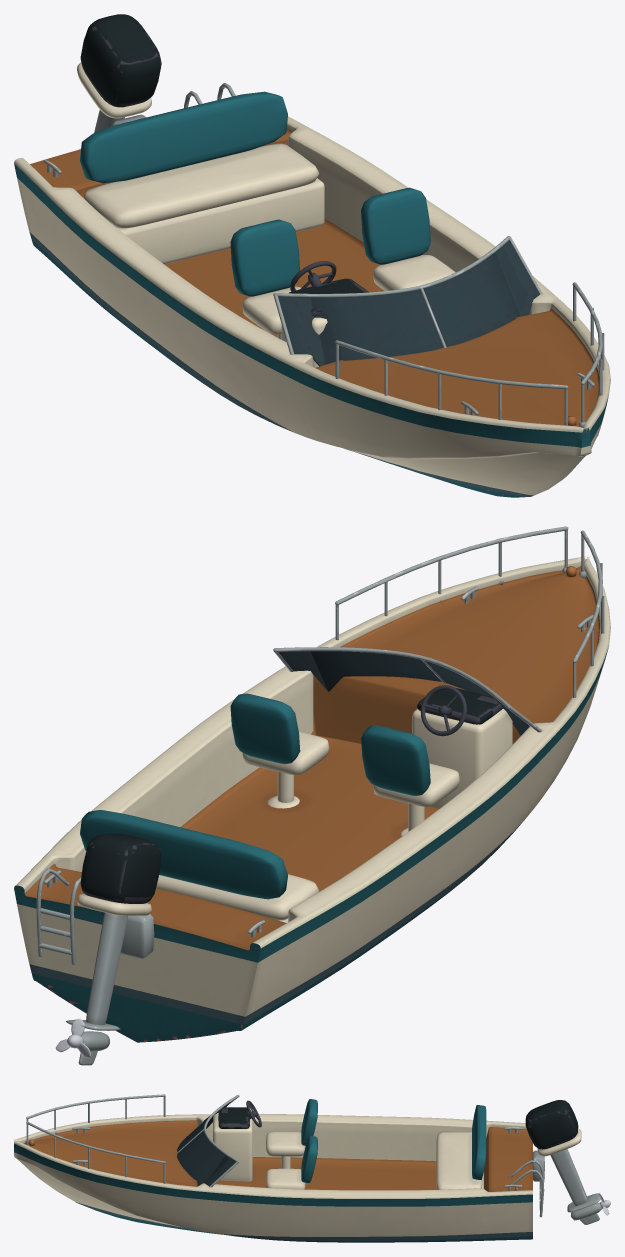
The model's file is motorboat-Q2AZVVOV.glb.
3 renders of one model, top to bottom at view 1: azimuth 30°, elevation 25°; view 2: azimuth 150°, elevation 25°; view 3: azimuth 270°, elevation 25°, orthographic. The views are drawn at different scales.
Parts seen in each view (by area): view 1: motorboat_body, motorboat_steering_wheel; view 2: motorboat_body, motorboat_steering_wheel; view 3: motorboat_body, motorboat_steering_wheel.
Boxes of the visible parts, x1,y1,x2,y2 form: motorboat_body: (14,14,610,497); motorboat_steering_wheel: (290,261,336,291); motorboat_body: (14,526,610,1065); motorboat_steering_wheel: (420,685,466,736); motorboat_body: (14,1094,601,1242); motorboat_steering_wheel: (246,1100,261,1127).
Size of the model in its own units: 2.46 by 1.83 by 7.53.
Materials: 3 (1 with a texture image).
